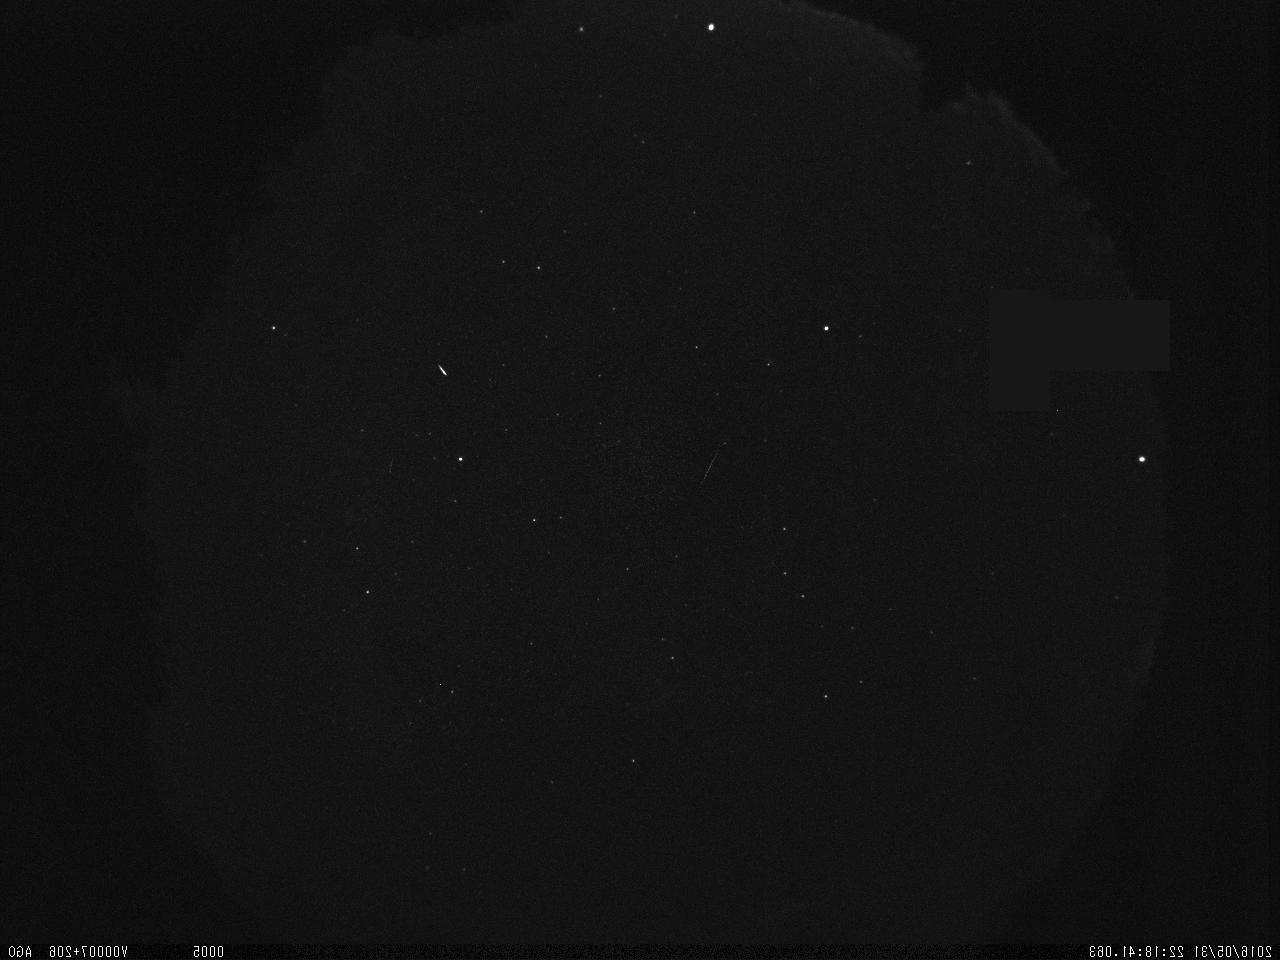meteor: (431, 362, 453, 378)
